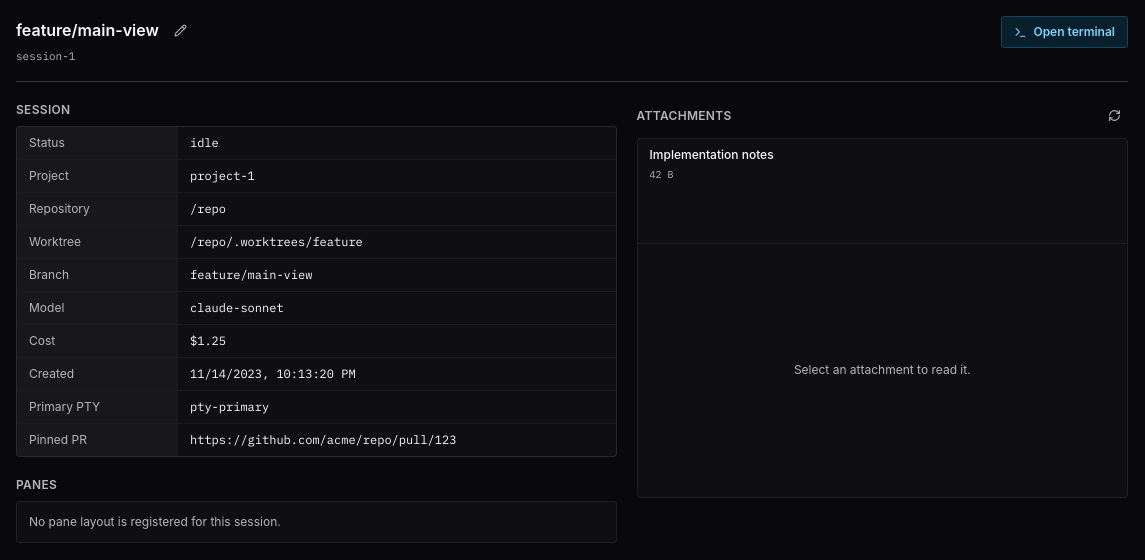
SessionDetailView › opens an attached document inline
This screenshot has width=1145, height=560.
What coordinates should you click on to do the following:
click the button "Implementation notes 42 B"
I would click on:
 (712, 154)
Its box is [638,138,1127,190].
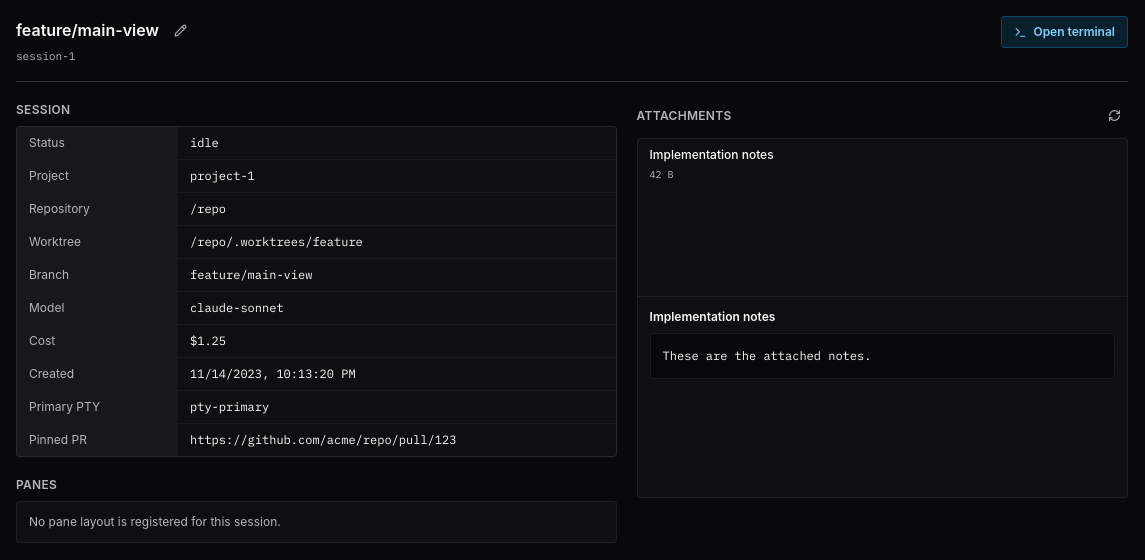
Expected: the text "These are the attached notes." is shown, [650,332,1115,378]
